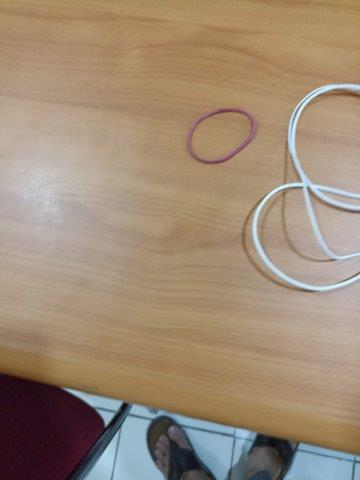karet: (185, 107, 256, 164)
